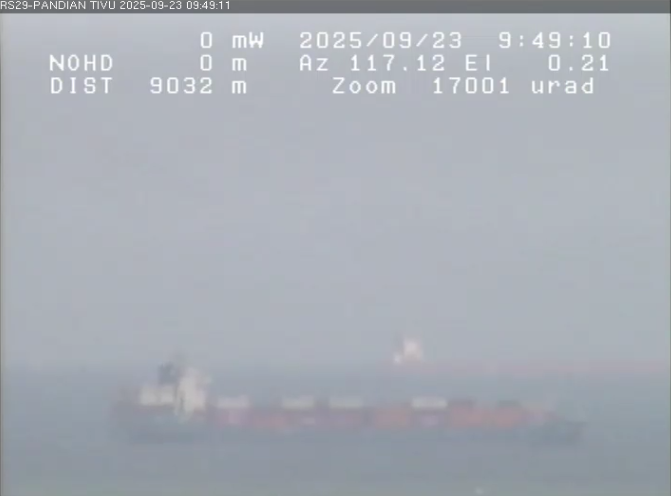CARGO_SHIPS: (109, 348, 590, 453)
